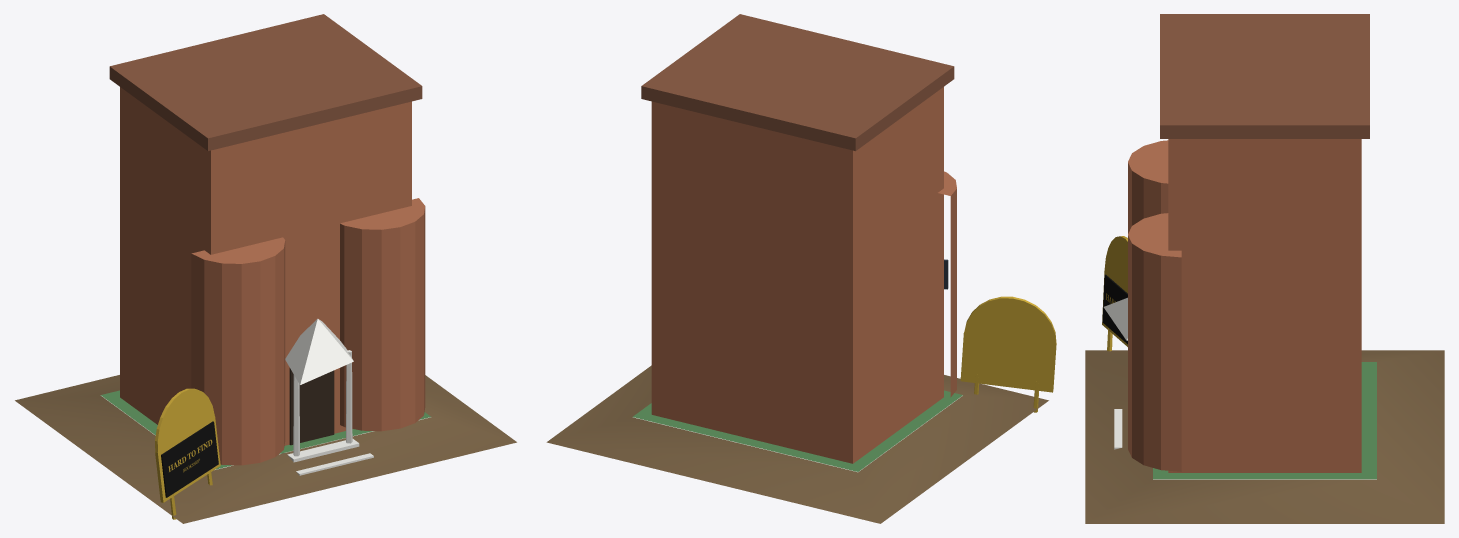
Rendered from bookshop.glb.
The picture shows the model from 3 angles, left to right: view 1: azimuth 30°, elevation 25°; view 2: azimuth 150°, elevation 25°; view 3: azimuth 270°, elevation 25°; orthographic projection. The views are drawn at different scales.
Parts seen in each view (by area): view 1: n9, n11, n2, n13, n25, n37, n45, n50, n53, n4, n48, n5 (+1 smaller); view 2: n9, n2, n11, n48, n53, n4, n13; view 3: n9, n2, n11, n25, n4, n13, n53, n50, n45.
Part boxes in pixels (bbox=[...]): n9: bbox=[120, 87, 411, 445]; n11: bbox=[109, 14, 422, 150]; n2: bbox=[15, 375, 516, 523]; n13: bbox=[191, 237, 285, 465]; n25: bbox=[340, 198, 425, 431]; n37: bbox=[289, 368, 334, 445]; n45: bbox=[285, 319, 353, 384]; n50: bbox=[161, 421, 218, 497]; n53: bbox=[155, 388, 214, 452]; n4: bbox=[101, 390, 430, 469]; n48: bbox=[155, 416, 220, 502]; n5: bbox=[281, 438, 359, 462]; n9: bbox=[651, 87, 943, 463]; n2: bbox=[546, 365, 1048, 523]; n11: bbox=[641, 14, 954, 151]; n48: bbox=[960, 332, 1056, 392]; n53: bbox=[964, 296, 1056, 344]; n4: bbox=[633, 390, 962, 471]; n13: bbox=[938, 171, 956, 397]; n9: bbox=[1168, 139, 1361, 472]; n2: bbox=[1085, 350, 1444, 523]; n11: bbox=[1160, 14, 1369, 138]; n25: bbox=[1128, 213, 1181, 471]; n4: bbox=[1153, 362, 1376, 479]; n13: bbox=[1128, 140, 1168, 233]; n53: bbox=[1104, 236, 1127, 288]; n50: bbox=[1102, 274, 1127, 344]; n45: bbox=[1103, 297, 1127, 340].
Bounding box in the file's own units: 8.04 × 7.62 × 6.68.
Materials: 11 (1 with a texture image).
